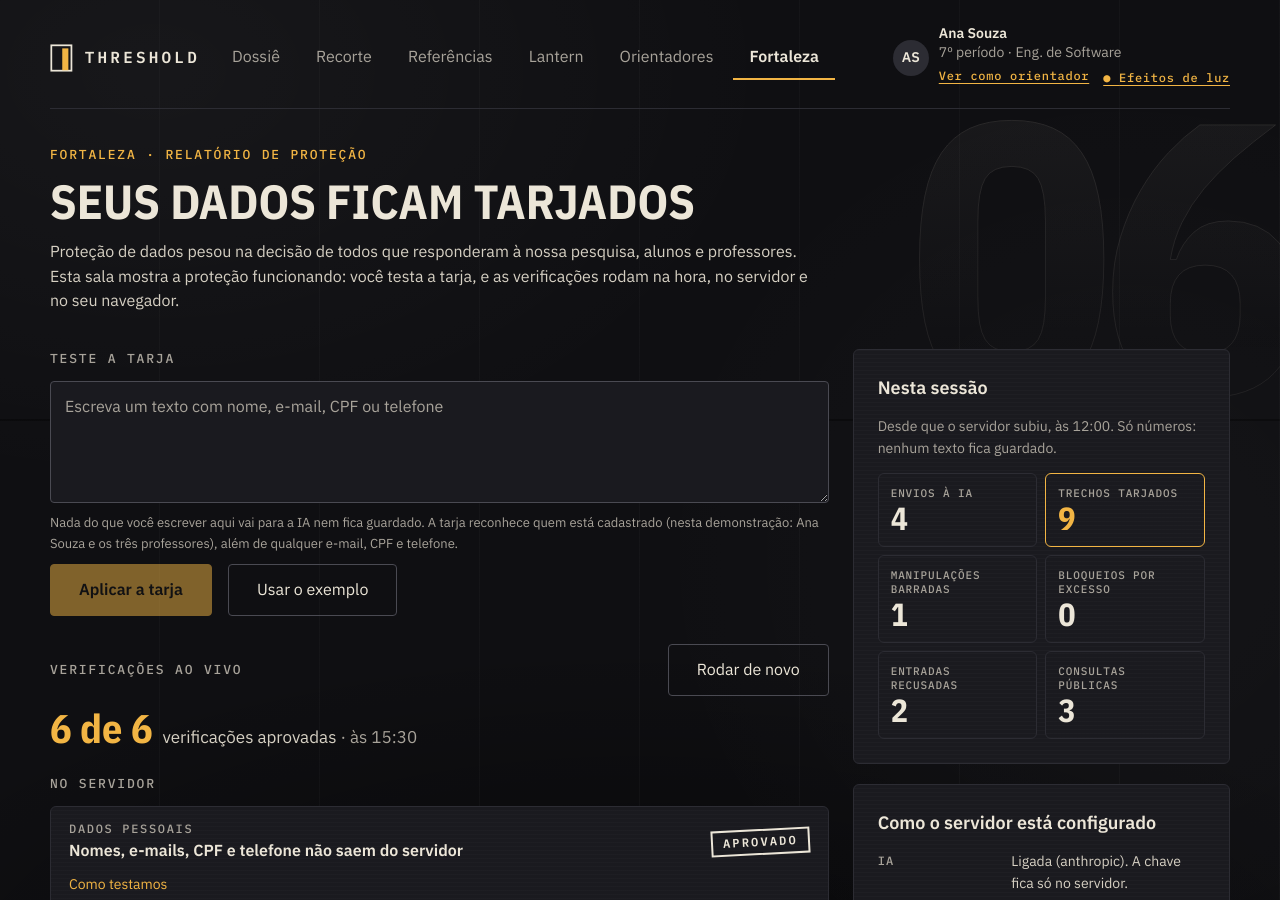
Scenario: Tela Fortaleza › "Rodar de novo" refaz as verificações e confirma a hora
Click the button "Rodar de novo": click(748, 670) [668,644,829,696]
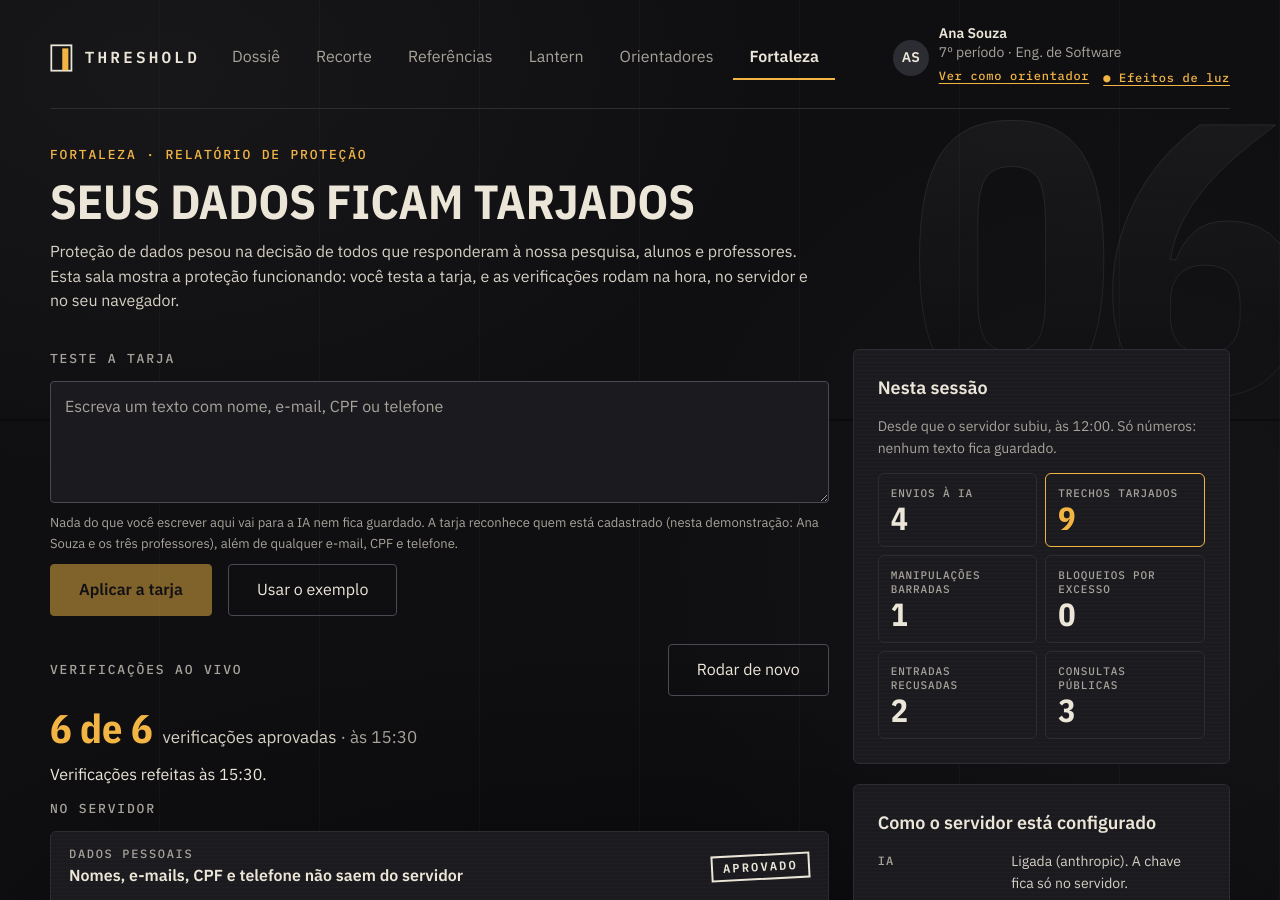
Result: the text "Verificações refeitas às 15:30." is shown at [50,764,267,784]
